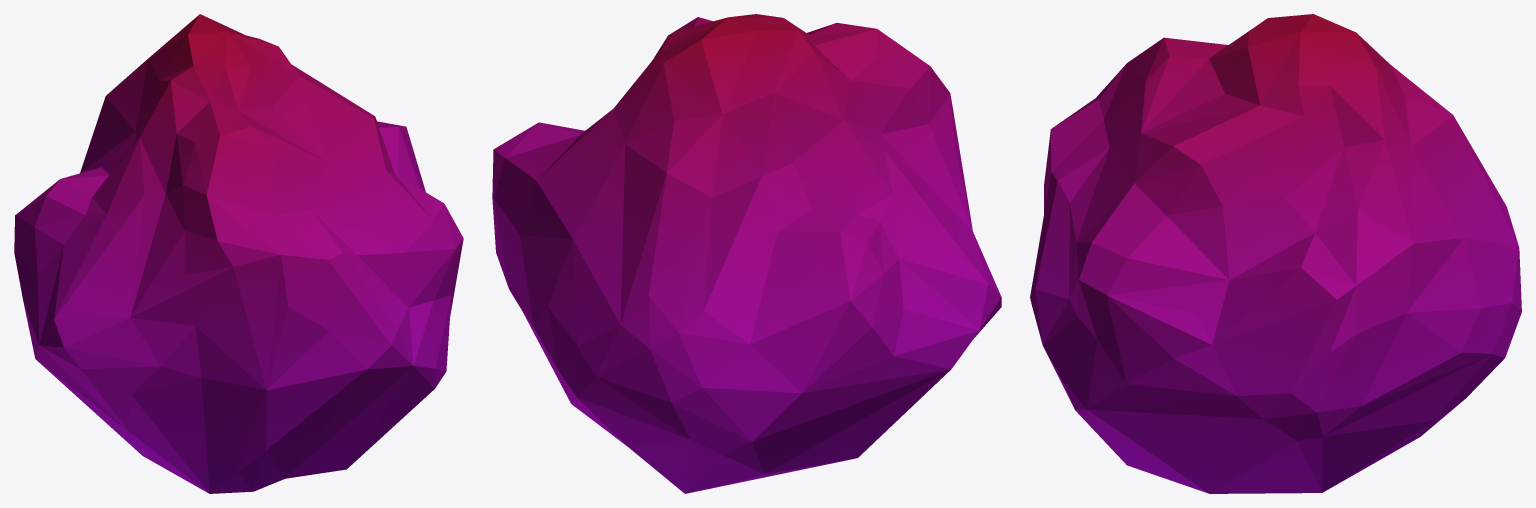
Rendered from SM_Plant_Hedge_Bush_02.gltf.
The picture shows the model from 3 angles, left to right: view 1: azimuth 30°, elevation 25°; view 2: azimuth 150°, elevation 25°; view 3: azimuth 270°, elevation 25°; orthographic projection. The views are drawn at different scales.
Visible parts, largest first — view 1: SM_Plant_Hedge_Bush_02; view 2: SM_Plant_Hedge_Bush_02; view 3: SM_Plant_Hedge_Bush_02.
Part boxes in pixels (x1,y1,x2,y2): SM_Plant_Hedge_Bush_02: (14,14,463,493); SM_Plant_Hedge_Bush_02: (492,14,1001,493); SM_Plant_Hedge_Bush_02: (1030,14,1521,493).
Bounding box in the file's own units: 1.92 × 1.73 × 1.87.
